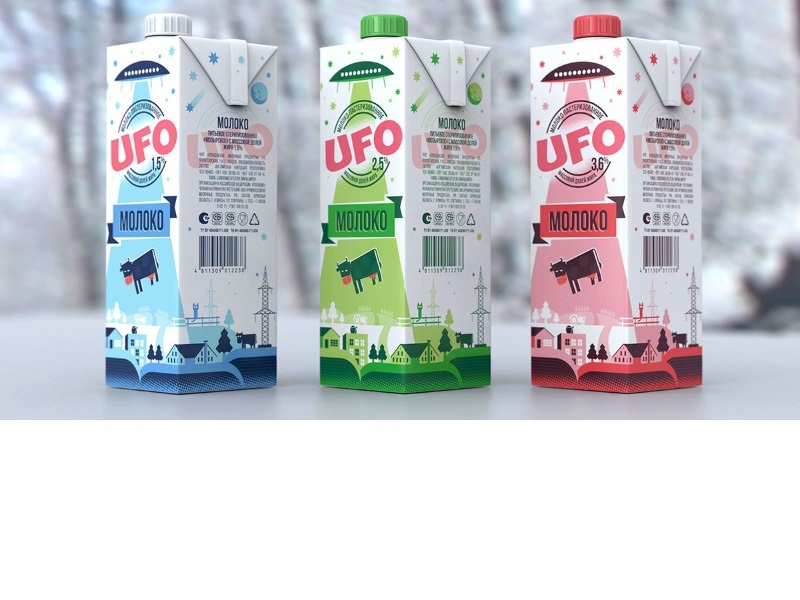milk: (504, 2, 722, 421), (296, 3, 508, 411), (85, 3, 294, 406)
